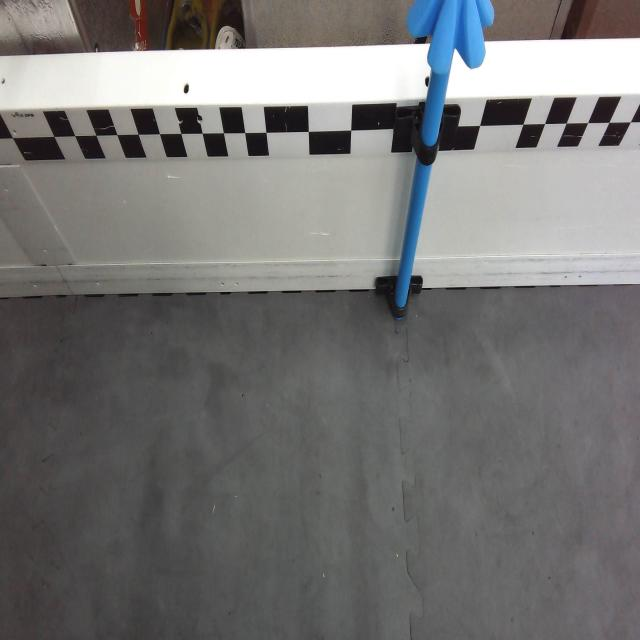zblue-Stake-Head: (405, 0, 494, 73)
